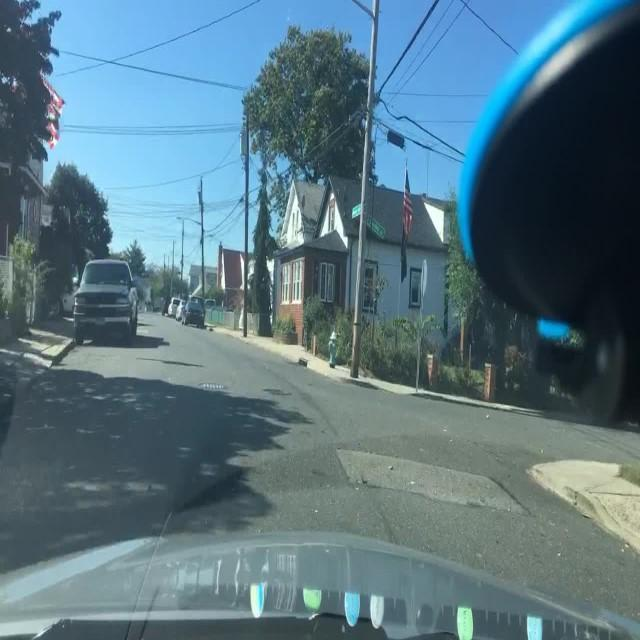normal: (70, 256, 137, 343)
